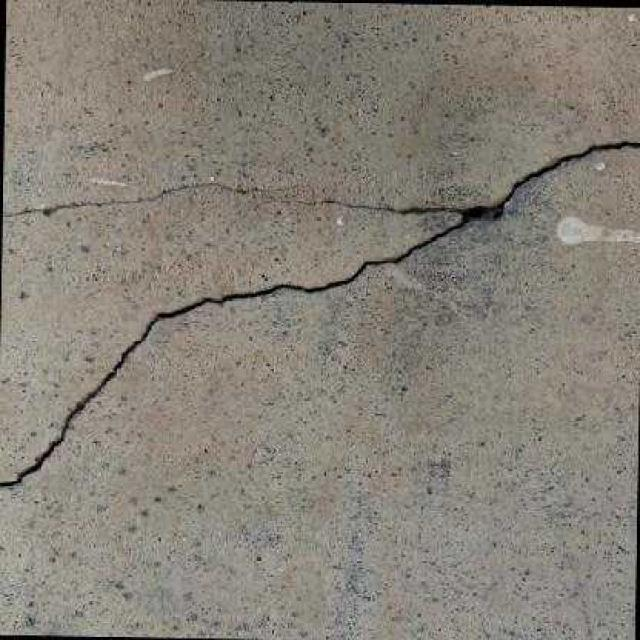D00: (0, 139, 640, 487), (2, 180, 295, 218)
